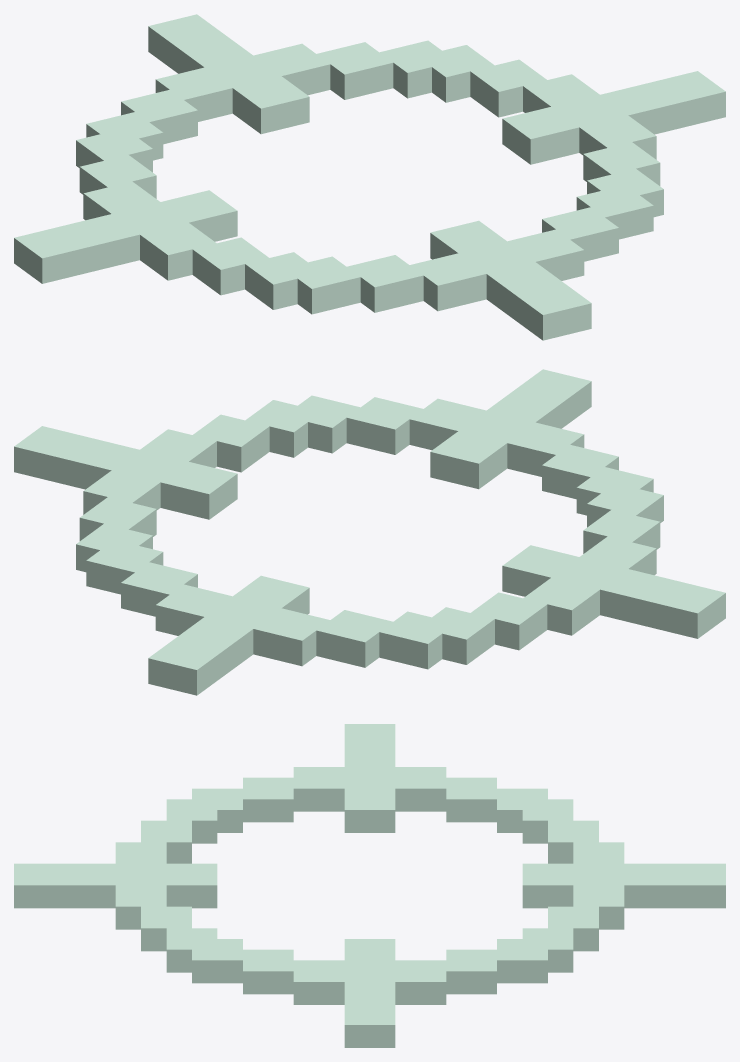
The model's file is Crosshair.obj.
3 views of the same model, one above another, from view 1: azimuth 30°, elevation 25°; view 2: azimuth 150°, elevation 25°; view 3: azimuth 270°, elevation 25° (orthographic). The views are drawn at different scales.
Bounding box in the file's own units: 2.8 × 0.1 × 2.8.
Materials: 1 (1 with a texture image).
